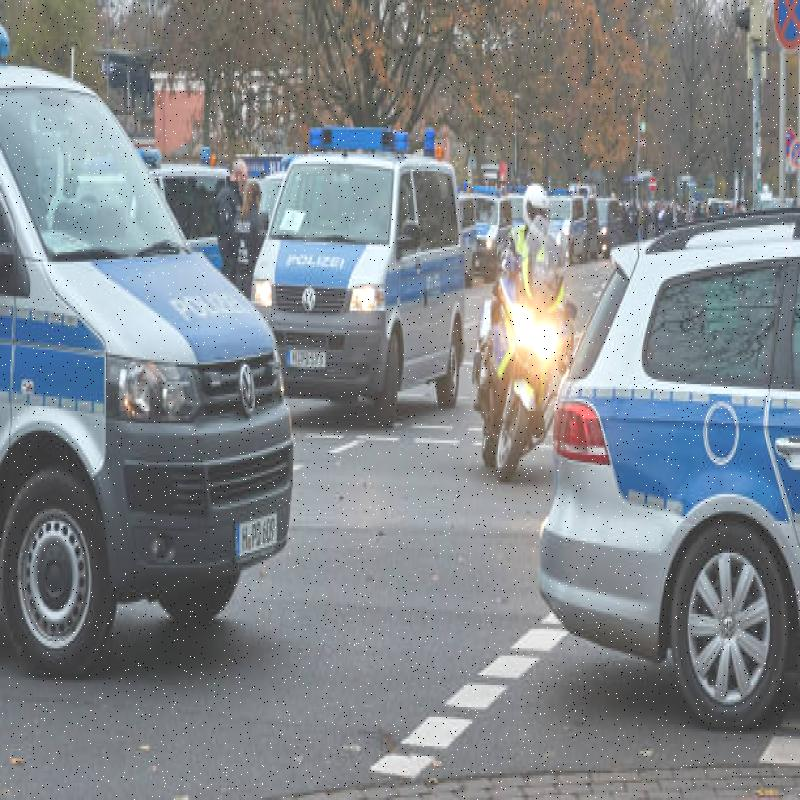AmbulanceSiren: (298, 101, 450, 190)
